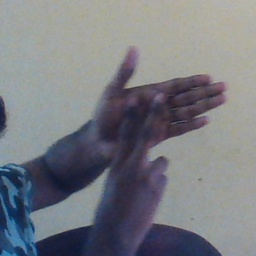N: (80, 44, 232, 195)
